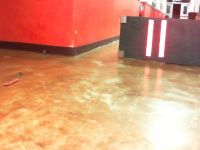switch: (145, 20, 154, 57), (158, 20, 167, 57)
